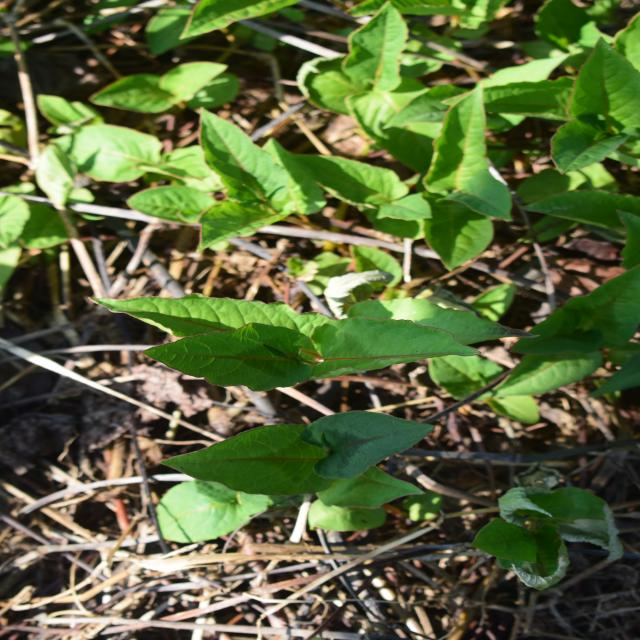Chinese_knotweed: (224, 104, 378, 473), (123, 158, 230, 424)
